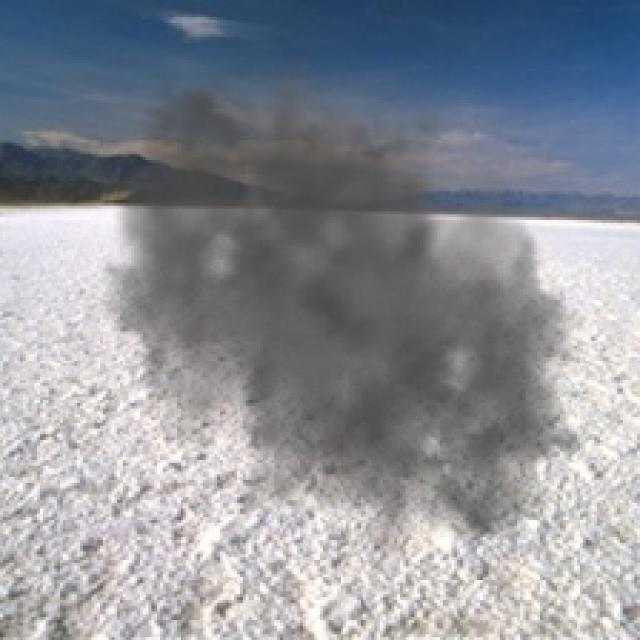smoke: (60, 46, 620, 580)
